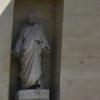Statue: (16, 10, 47, 100)
